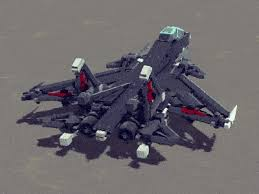maybay_muctieu: (38, 9, 242, 155)
